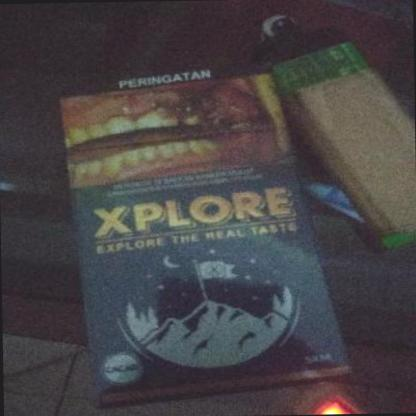objects: (60, 72, 350, 407)
